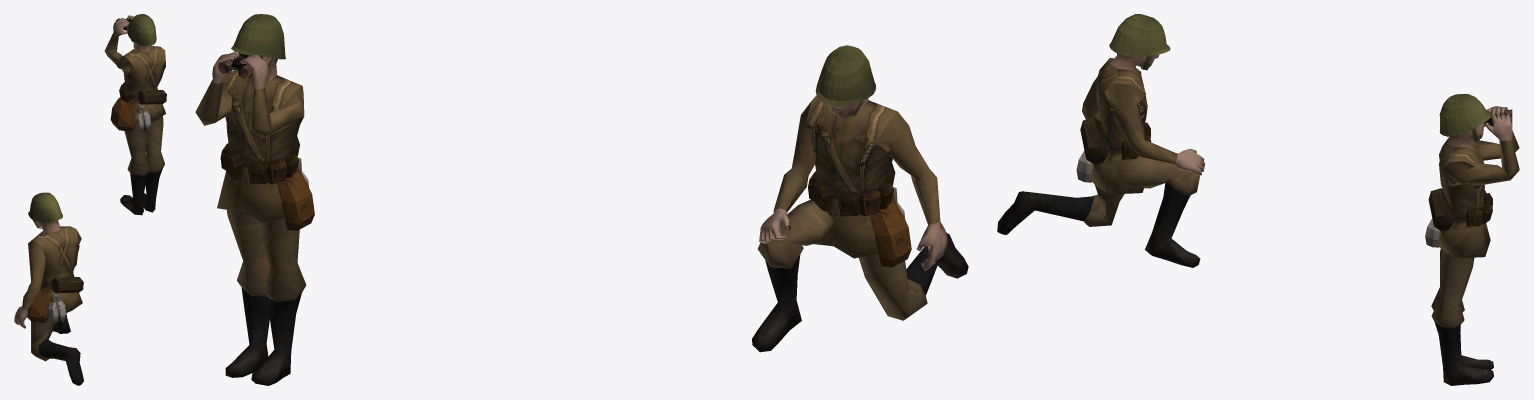
File: cf_sov_arty.obj
3 views of the same model, side by side, from view 1: azimuth 30°, elevation 25°; view 2: azimuth 150°, elevation 25°; view 3: azimuth 270°, elevation 25° (orthographic). The views are drawn at different scales.
Parts seen in each view (by area): view 1: german_rigged.007, cat_Mesh.005; view 2: cat_Mesh.005, german_rigged.007; view 3: cat_Mesh.005, german_rigged.007.
Part boxes in pixels (x1,y1,x2,y2): german_rigged.007: (104, 14, 166, 215); cat_Mesh.005: (14, 192, 83, 385); cat_Mesh.005: (752, 45, 968, 352); german_rigged.007: (195, 14, 314, 385); cat_Mesh.005: (997, 14, 1205, 267); german_rigged.007: (1425, 94, 1519, 385).
Size of the model in its own units: 2.67 by 1.91 by 3.03.
Materials: 1 (1 with a texture image).
